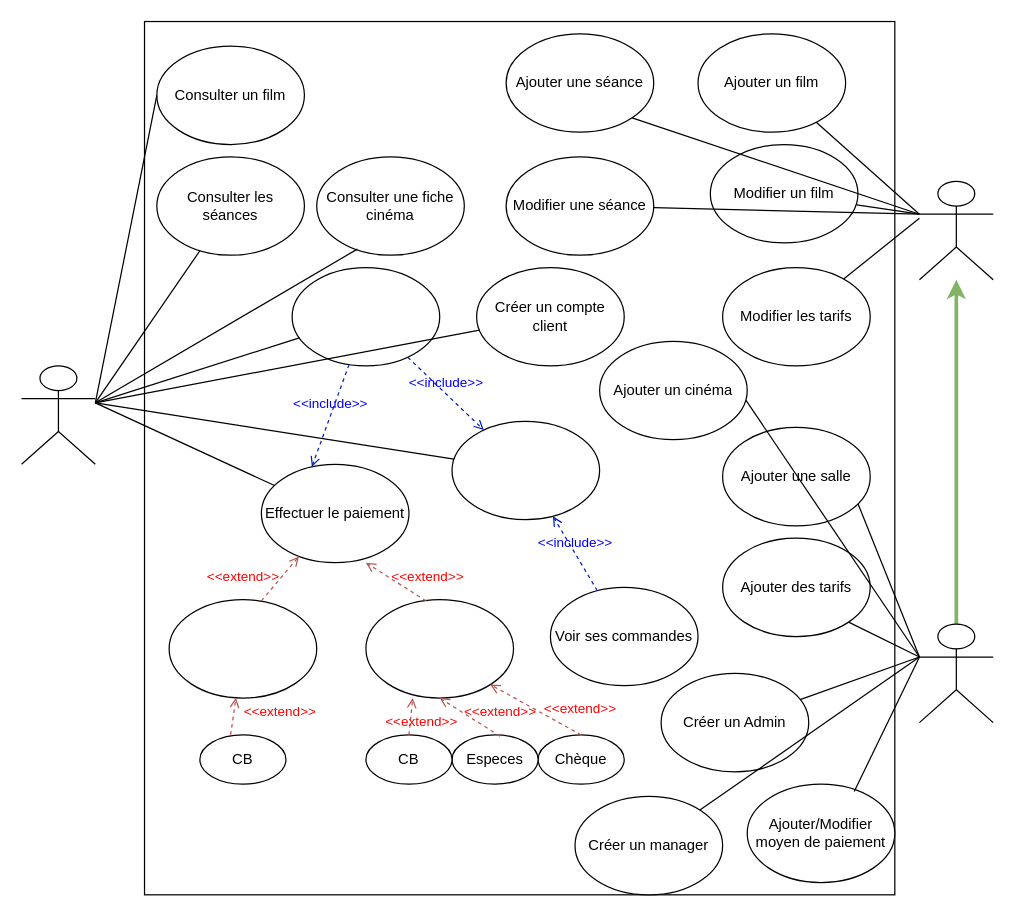
Image size: 1025x916. Some labels were removed from this diagram. The shapes that lost their labels are listed below. From the top down, each one's centre as x and y in pixels, then its label:
(x=955, y=230): Manager
(x=365, y=316): Réserver une séance
(x=57, y=414): Client
(x=525, y=470): Se connecter
(x=242, y=648): En ligne
(x=439, y=648): Sur place
(x=955, y=673): Administrateur
